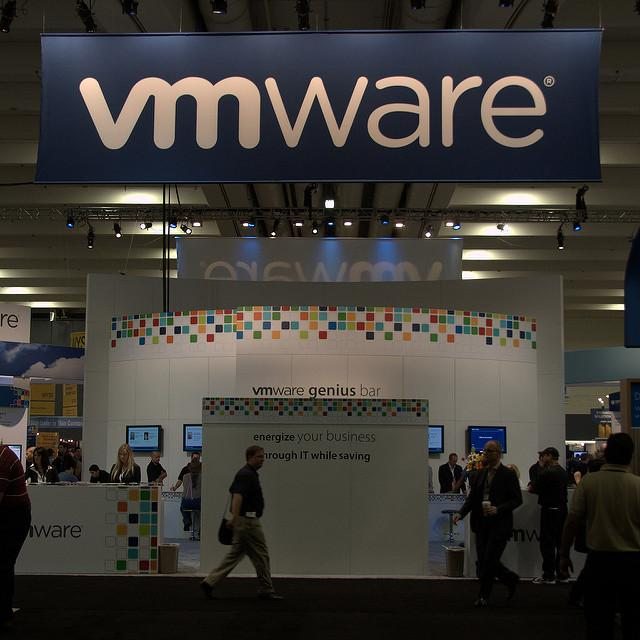vmware: (79, 77, 260, 148), (252, 387, 272, 395)
